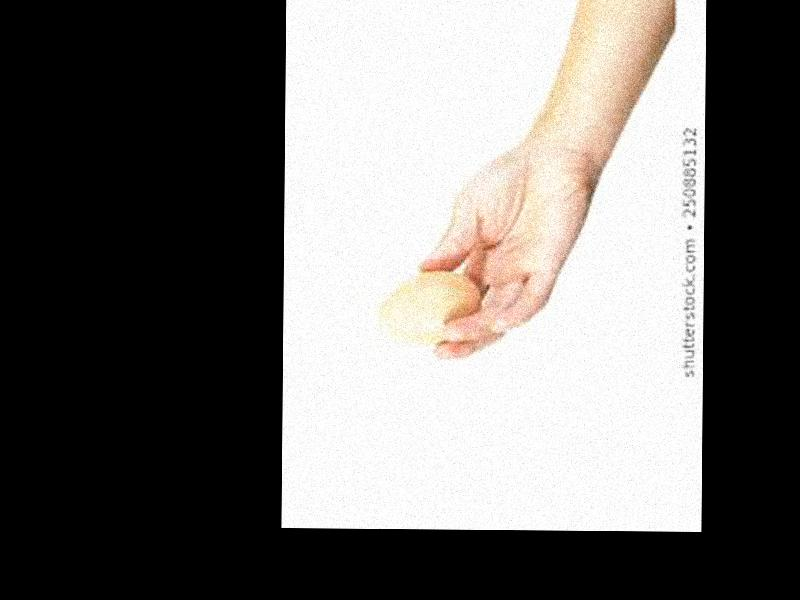Eggs: (376, 270, 485, 345)
